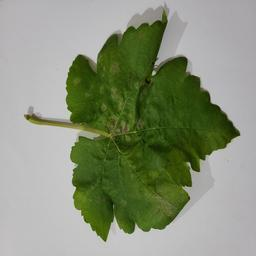Powdery-Mildew: (101, 103, 141, 138), (153, 185, 182, 219), (109, 76, 144, 100), (104, 58, 121, 75)
